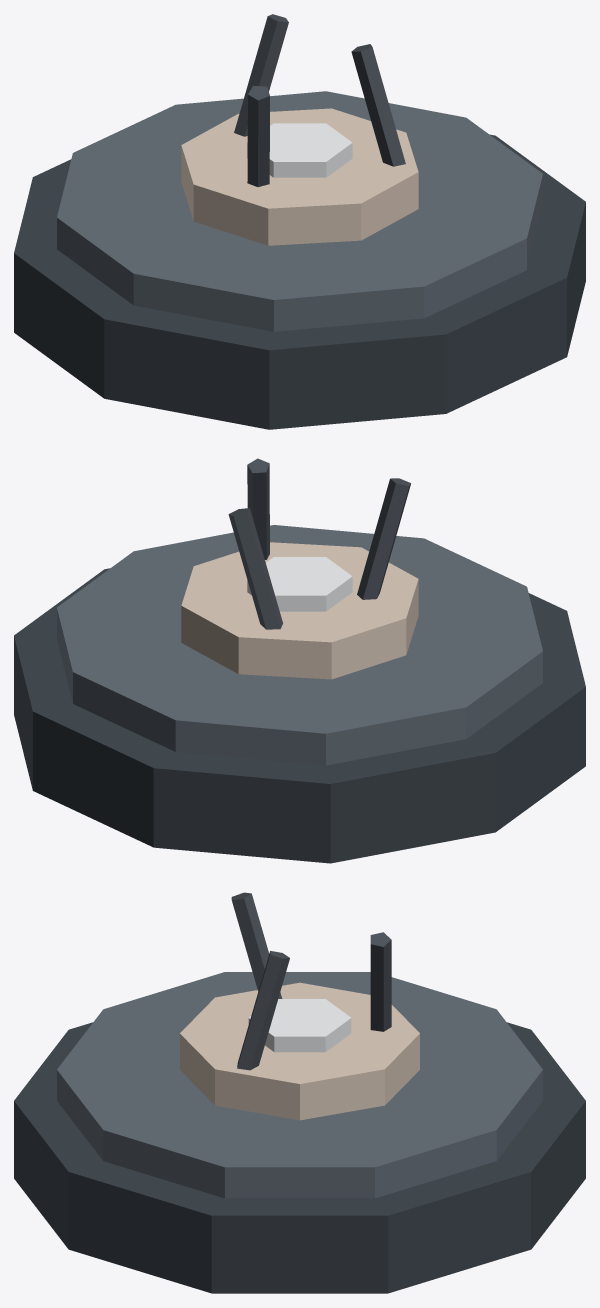
File: prop_repulsor_mine.fbx
3 views of the same model, one above another, from view 1: azimuth 30°, elevation 25°; view 2: azimuth 150°, elevation 25°; view 3: azimuth 270°, elevation 25° (orthographic). The views are drawn at different scales.
Parts seen in each view (by area): view 1: prop_repulsor_mine; view 2: prop_repulsor_mine; view 3: prop_repulsor_mine.
Boxes of the visible parts, bbox=[...] form: prop_repulsor_mine: bbox=[14, 14, 585, 429]; prop_repulsor_mine: bbox=[14, 458, 585, 863]; prop_repulsor_mine: bbox=[14, 892, 585, 1293].
Bounding box in the file's own units: 190 × 97.01 × 200.
